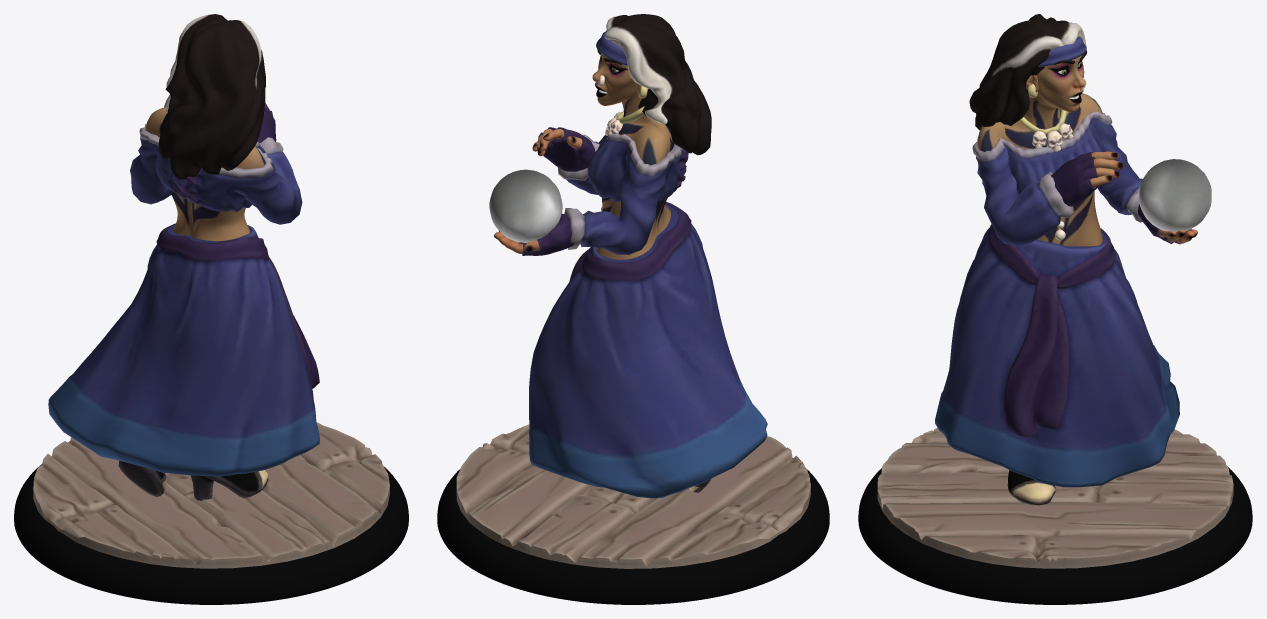
File: persephone-puleri.glb
The picture shows the model from 3 angles, left to right: view 1: azimuth 30°, elevation 25°; view 2: azimuth 150°, elevation 25°; view 3: azimuth 270°, elevation 25°; orthographic projection.
Bounding box in the file's own units: 0.7109 × 1 × 0.7109.
Materials: 1 (1 with a texture image).
